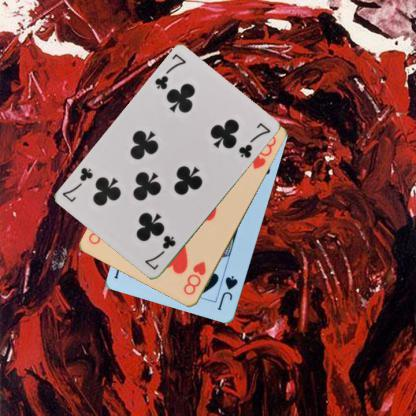7c: (152, 52, 187, 92), (142, 233, 178, 271)
8h: (181, 258, 207, 297)
Js: (214, 273, 239, 312)
